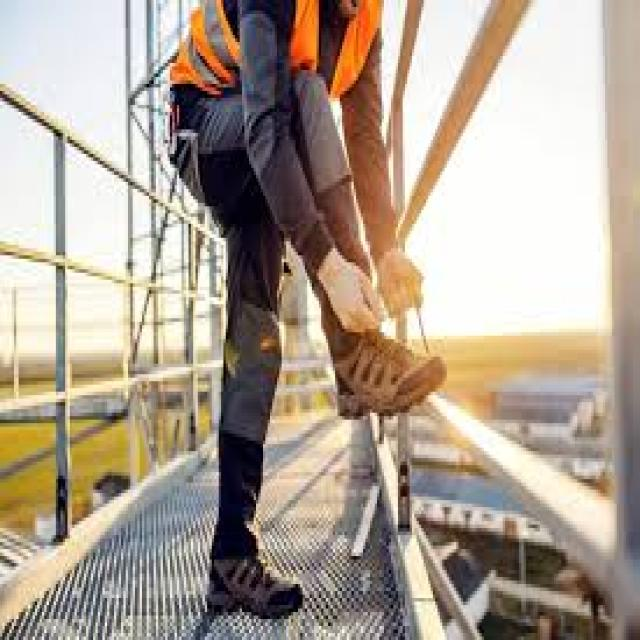shoes: (332, 343, 450, 418), (203, 541, 305, 621)
